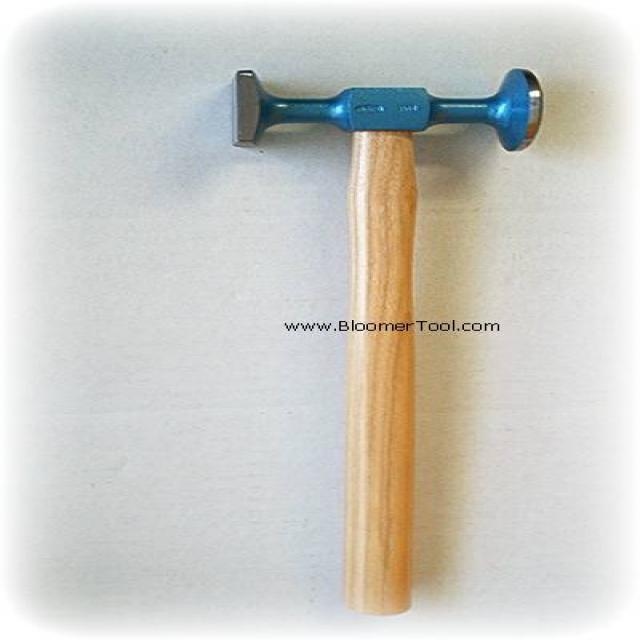hammer: (222, 59, 554, 619)
